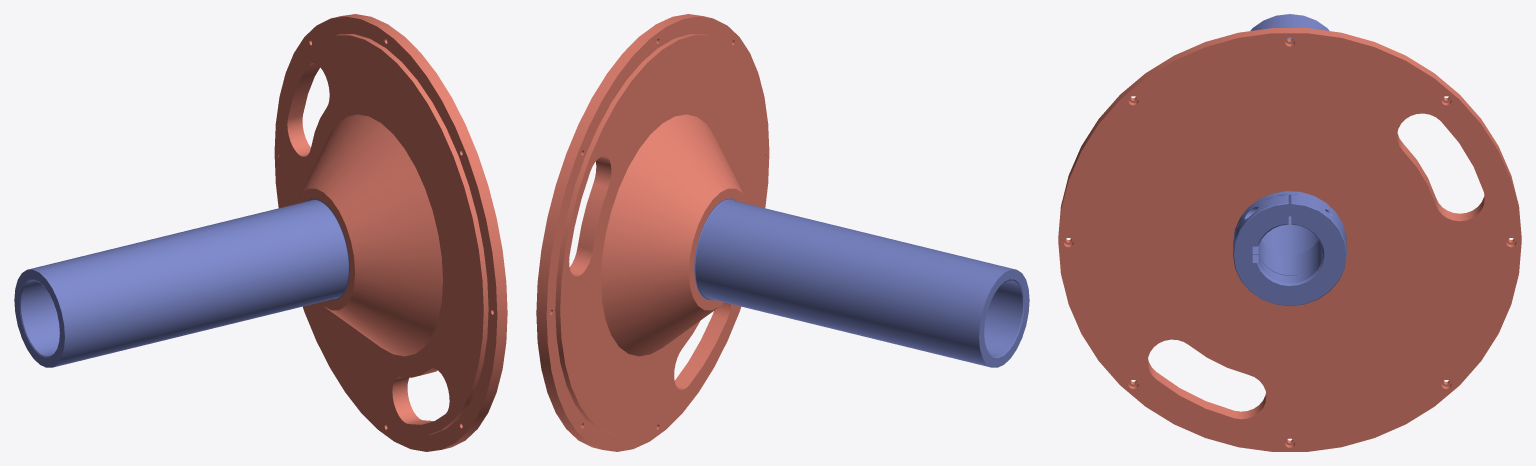
File: flange_with_a_shaft.glb
3 views of the same model, side by side, from view 1: azimuth 30°, elevation 25°; view 2: azimuth 150°, elevation 25°; view 3: azimuth 270°, elevation 25° (orthographic). The views are drawn at different scales.
Visible parts, largest first — view 1: assm; view 2: assm; view 3: assm.
Boxes of the visible parts, left/top/right/bottom form: assm: left=14, top=14, right=507, bottom=451; assm: left=536, top=14, right=1029, bottom=451; assm: left=1058, top=14, right=1521, bottom=451.
Size of the model in its own units: 63 by 63.67 by 63.85.
